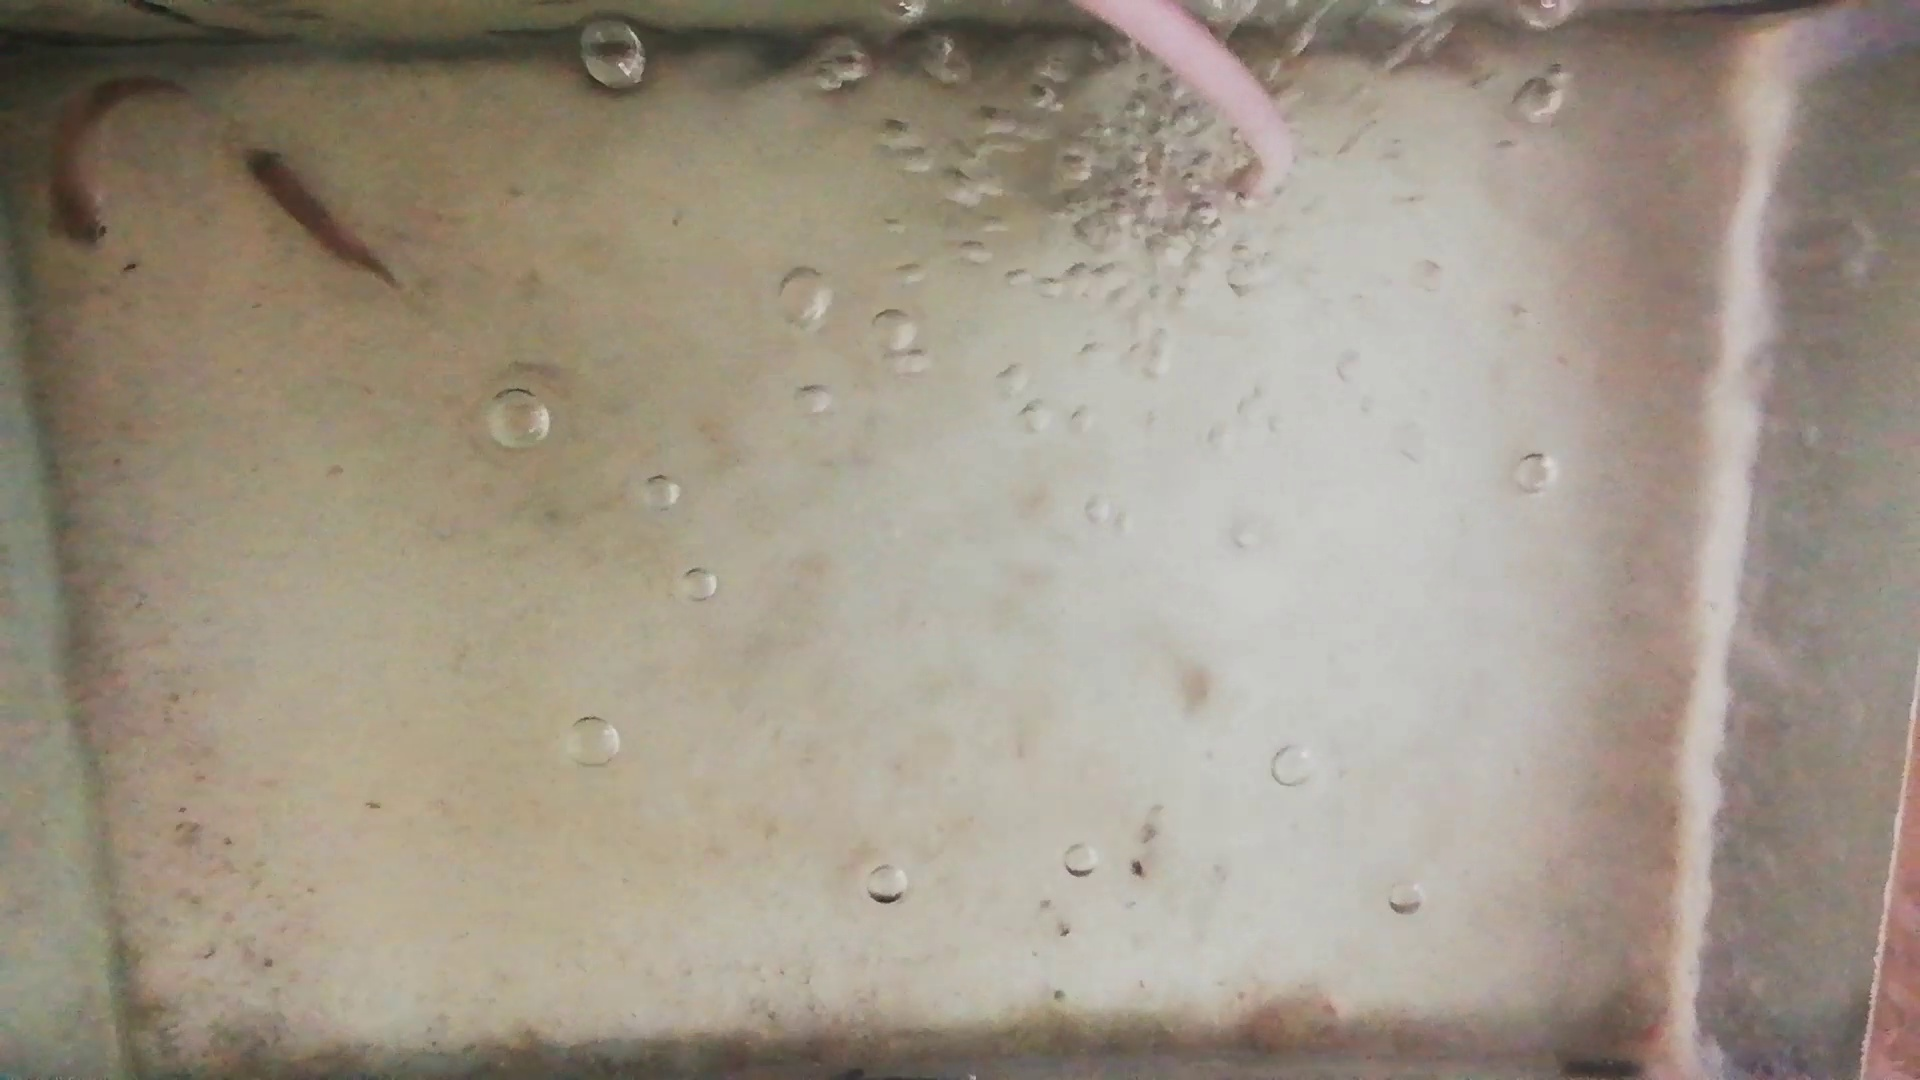fish: (44, 73, 179, 248), (240, 146, 390, 282)
